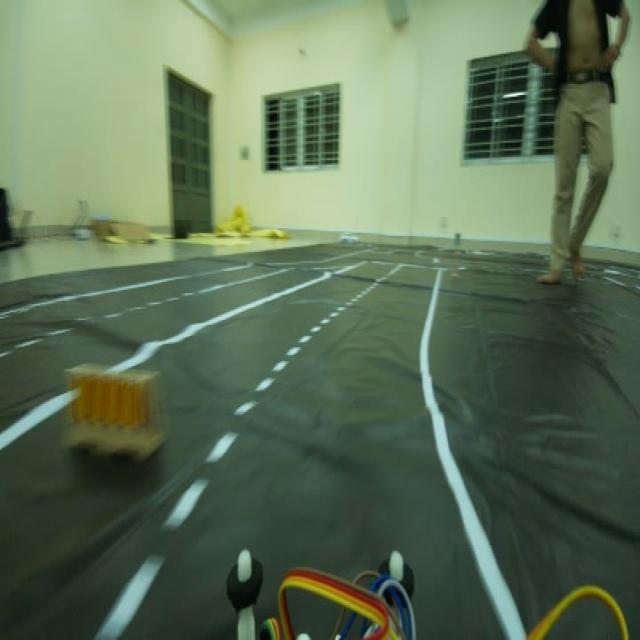roadblock: (56, 358, 174, 466)
